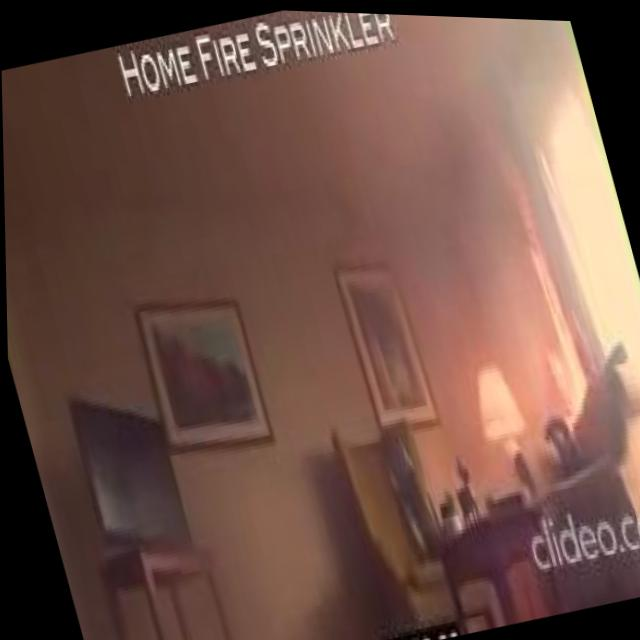fire: (487, 173, 599, 431)
